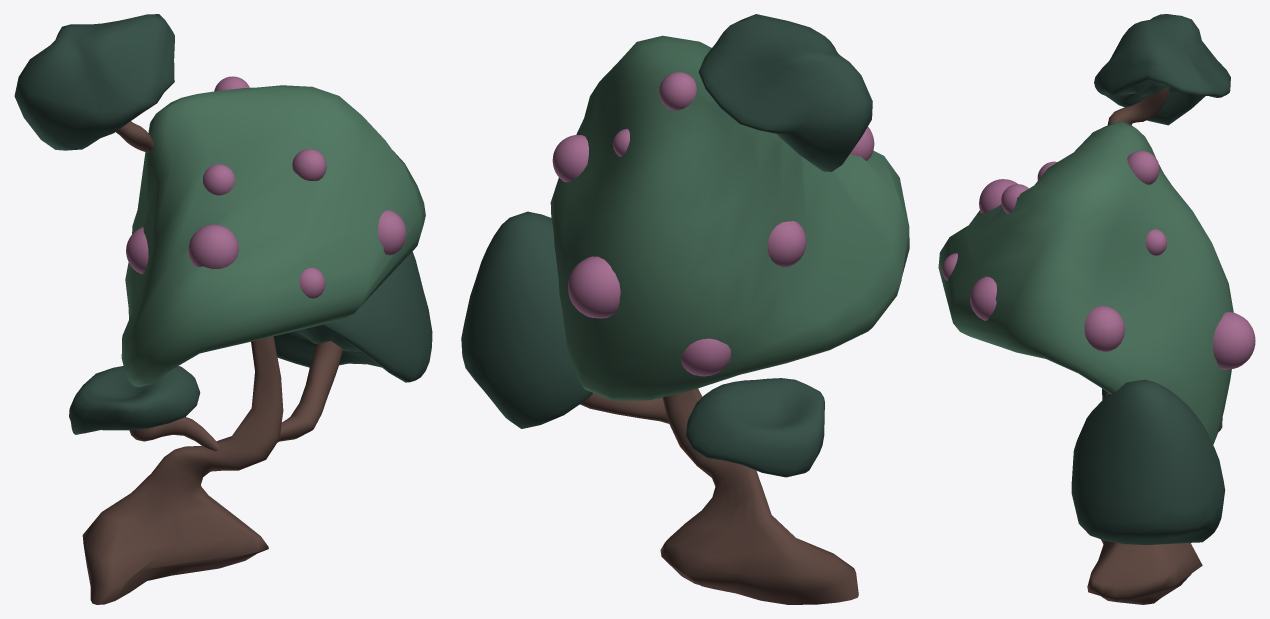
Rendered from sm_tree_01.fbx.
3 views of the same model, side by side, from view 1: azimuth 30°, elevation 25°; view 2: azimuth 150°, elevation 25°; view 3: azimuth 270°, elevation 25° (orthographic). The views are drawn at different scales.
Parts seen in each view (by area): view 1: sm_tree_01; view 2: sm_tree_01; view 3: sm_tree_01.
Part boxes in pixels (x1,y1,x2,y2): sm_tree_01: (14, 14, 432, 604); sm_tree_01: (461, 14, 909, 604); sm_tree_01: (938, 14, 1255, 604).
Bounding box in the file's own units: 7.18 × 9.7 × 5.23.
